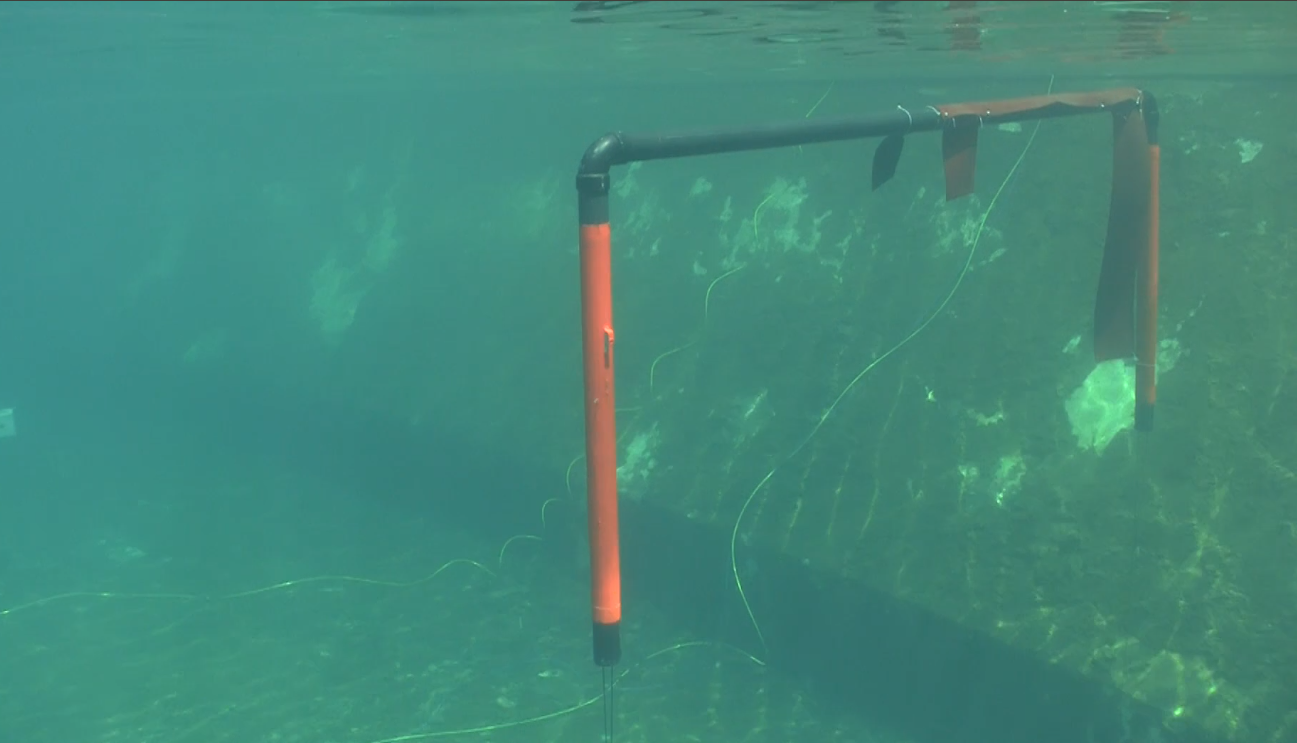gate: (570, 84, 1168, 629)
